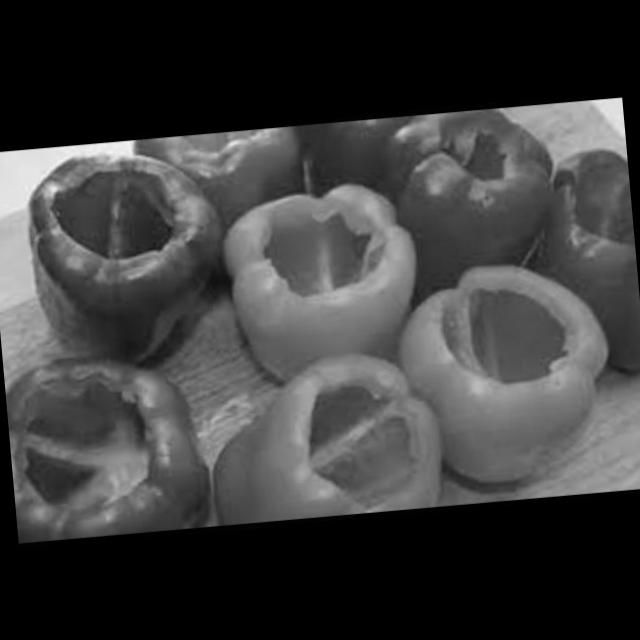ot chuong: (388, 243, 619, 508), (190, 165, 434, 378), (12, 135, 230, 373), (192, 347, 453, 525), (328, 101, 577, 281), (2, 336, 211, 542), (127, 122, 330, 255), (532, 138, 640, 383)
